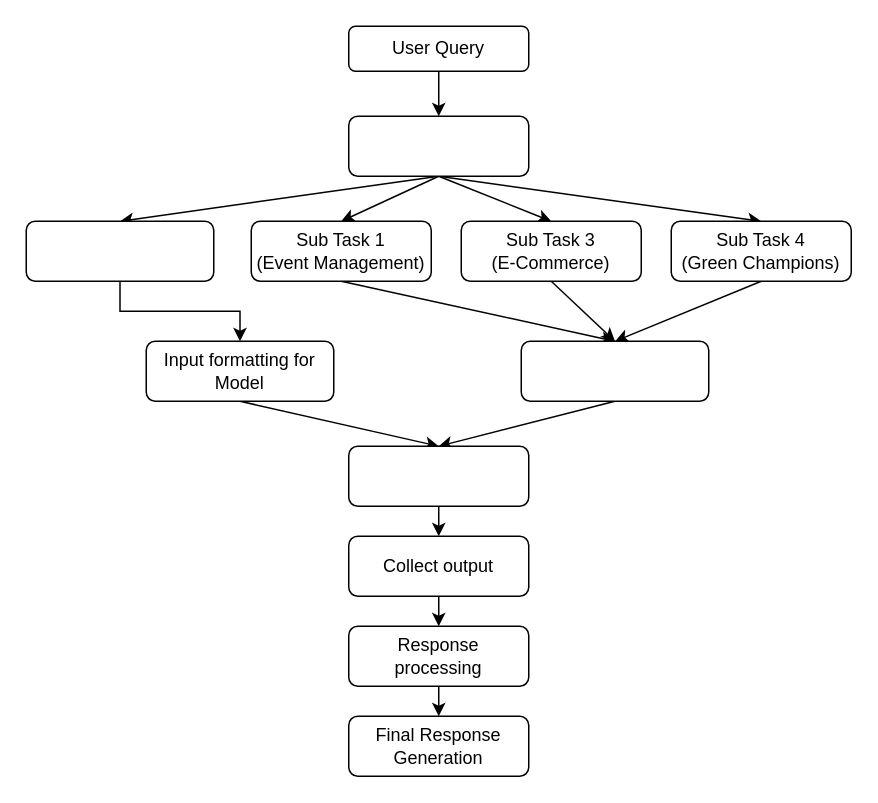
Image size: 878x803. Some labels were removed from this diagram. Here are the shapes that lost their labels. From the top down, the box of each, then its label:
(347, 115, 529, 176): Invoking a green practice
(25, 220, 214, 281): Sub Task 2 (Report Management)
(520, 340, 709, 401): JSON formatting and conflict resolution
(347, 445, 529, 506): Service Execution
